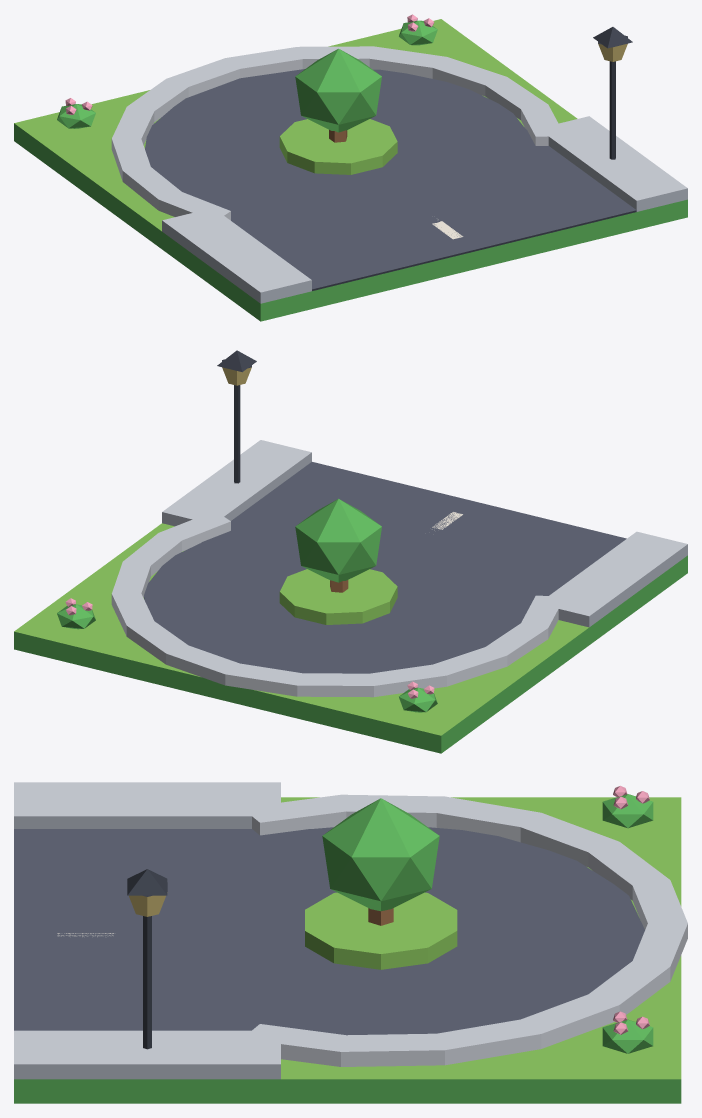
The model's file is road_end.glb.
3 renders of one model, top to bottom at view 1: azimuth 30°, elevation 25°; view 2: azimuth 150°, elevation 25°; view 3: azimuth 270°, elevation 25°, orthographic. The views are drawn at different scales.
Parts seen in each view (by area): view 1: road_end; view 2: road_end; view 3: road_end.
Part boxes in pixels (x1,y1,x2,y2): road_end: (14, 14, 687, 321); road_end: (14, 350, 687, 753); road_end: (14, 782, 687, 1103).
Size of the model in its own units: 1 by 0.36 by 1.01.
